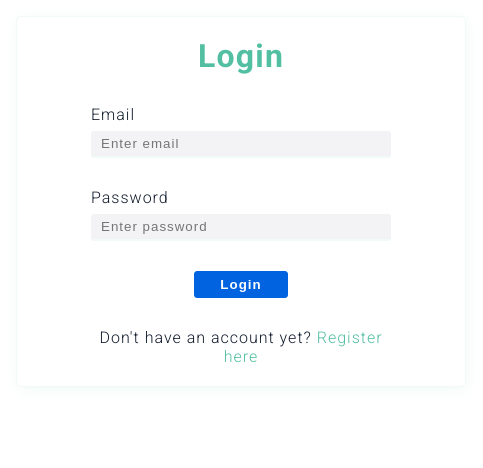
it: login comp › register link should navigate to /register
The image size is (483, 468).
Expected: the button "Login" is shown, [194,271,288,298]
Step 1. Click the link "Register here" → (350,338), box [224,328,383,366]
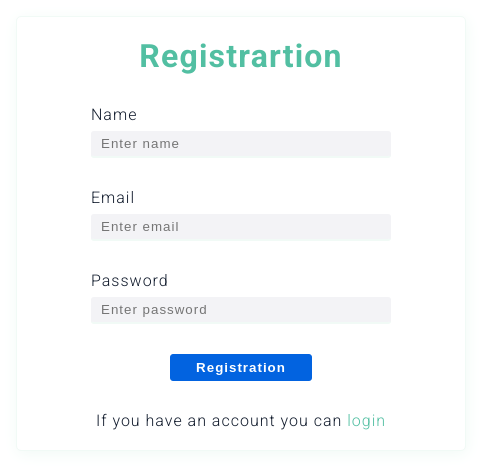
Result: the text "If you have an account you can login" is shown at [96,411,386,430]
